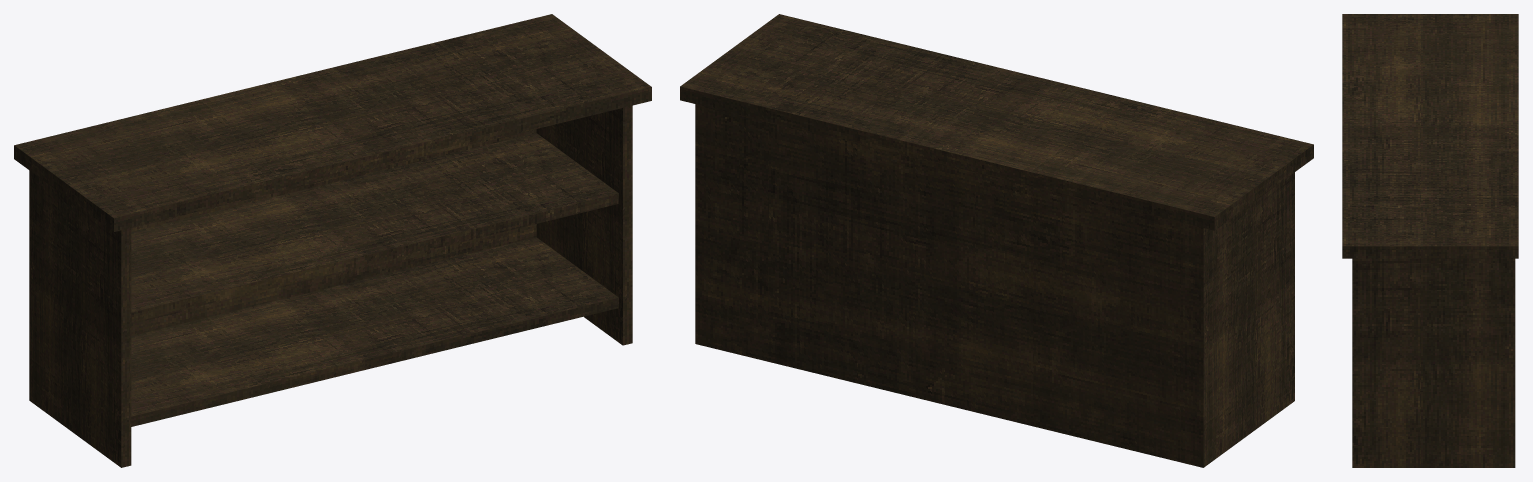
Rendered from tv_table_1_3.glb.
3 views of the same model, side by side, from view 1: azimuth 30°, elevation 25°; view 2: azimuth 150°, elevation 25°; view 3: azimuth 270°, elevation 25° (orthographic). The views are drawn at different scales.
Parts seen in each view (by area): view 1: tv_table_1_3; view 2: tv_table_1_3; view 3: tv_table_1_3.
Part boxes in pixels (x1=…): tv_table_1_3: x1=14, y1=14, x2=651, y2=467; tv_table_1_3: x1=680, y1=14, x2=1313, y2=467; tv_table_1_3: x1=1342, y1=14, x2=1518, y2=467.
Bounding box in the file's own units: 1.62 × 0.74 × 0.52.
1 material, 1 textured.
